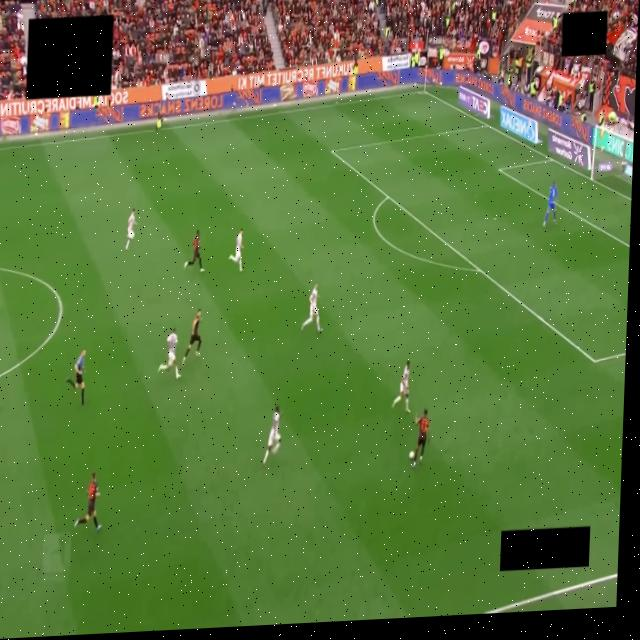ball: (409, 451, 413, 459)
player: (74, 473, 100, 531), (158, 328, 179, 379), (263, 406, 280, 466), (182, 309, 200, 365), (412, 409, 429, 468), (301, 284, 321, 333), (391, 361, 409, 412), (184, 230, 204, 272), (543, 182, 557, 226), (228, 228, 242, 271), (126, 209, 135, 250)
referee: (66, 350, 85, 405)
